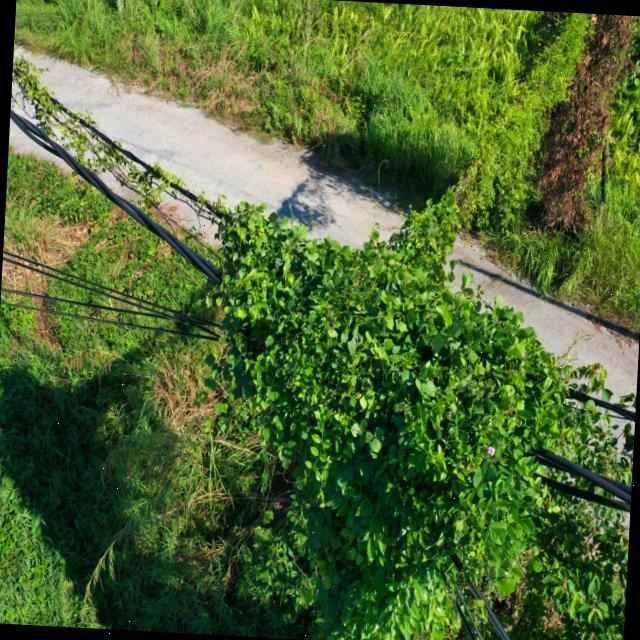critical vegetation: (0, 55, 639, 550)
